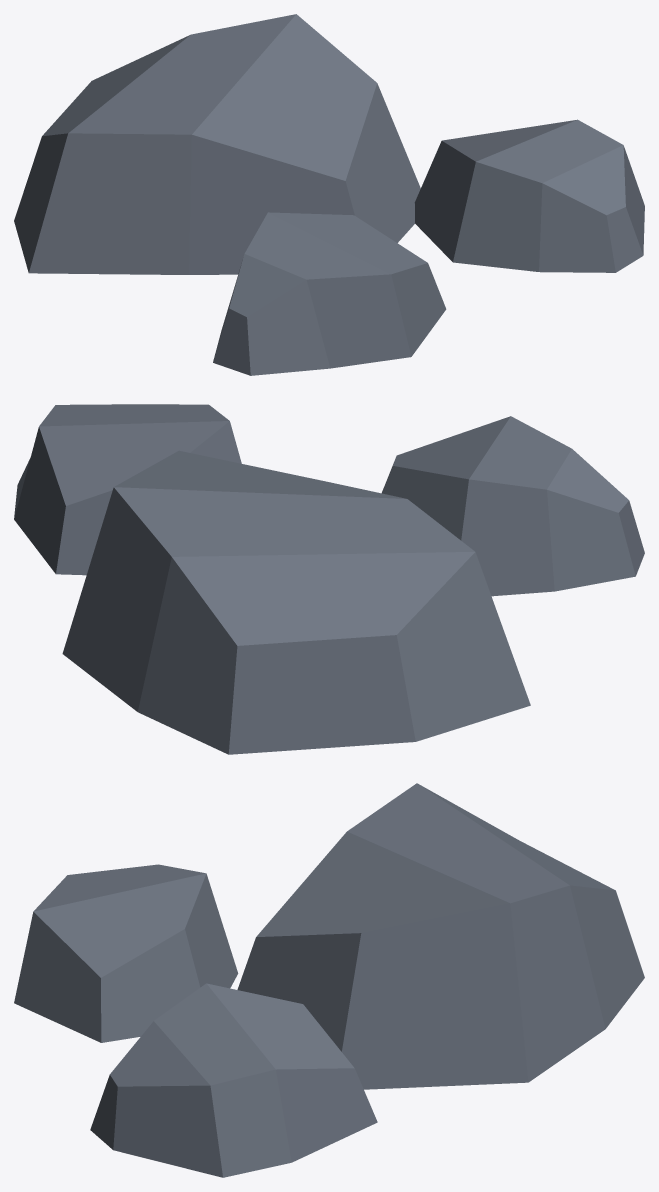
Rendered from Rock2.fbx.
3 views of the same model, one above another, from view 1: azimuth 30°, elevation 25°; view 2: azimuth 150°, elevation 25°; view 3: azimuth 270°, elevation 25° (orthographic). The views are drawn at different scales.
Visible parts, largest first — view 1: Rock_3; view 2: Rock_3; view 3: Rock_3.
Boxes of the visible parts, box(x1,y1,x2,y2) form: Rock_3: box(14, 14, 644, 375); Rock_3: box(14, 404, 644, 754); Rock_3: box(14, 783, 644, 1177).
Size of the model in its own units: 2422 by 644 by 2298.
